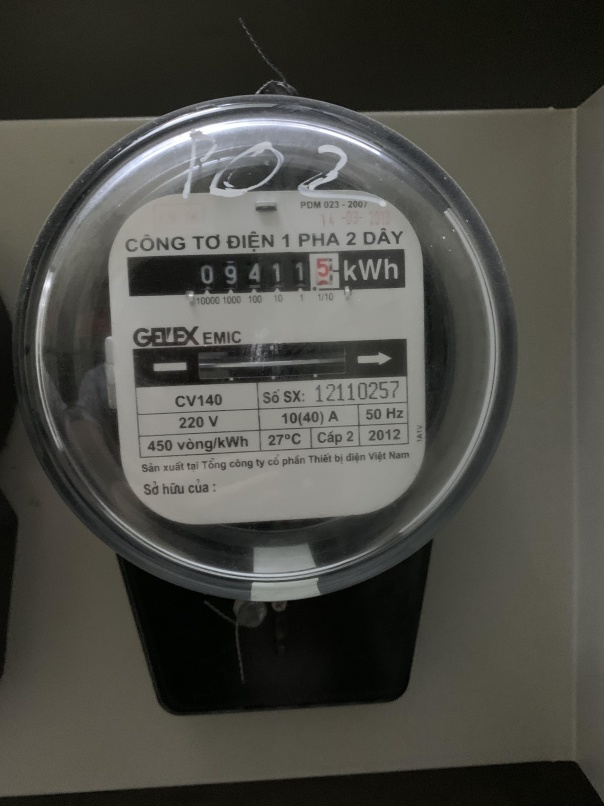counter: (123, 248, 413, 293)
electricity_meter: (21, 95, 524, 605)
